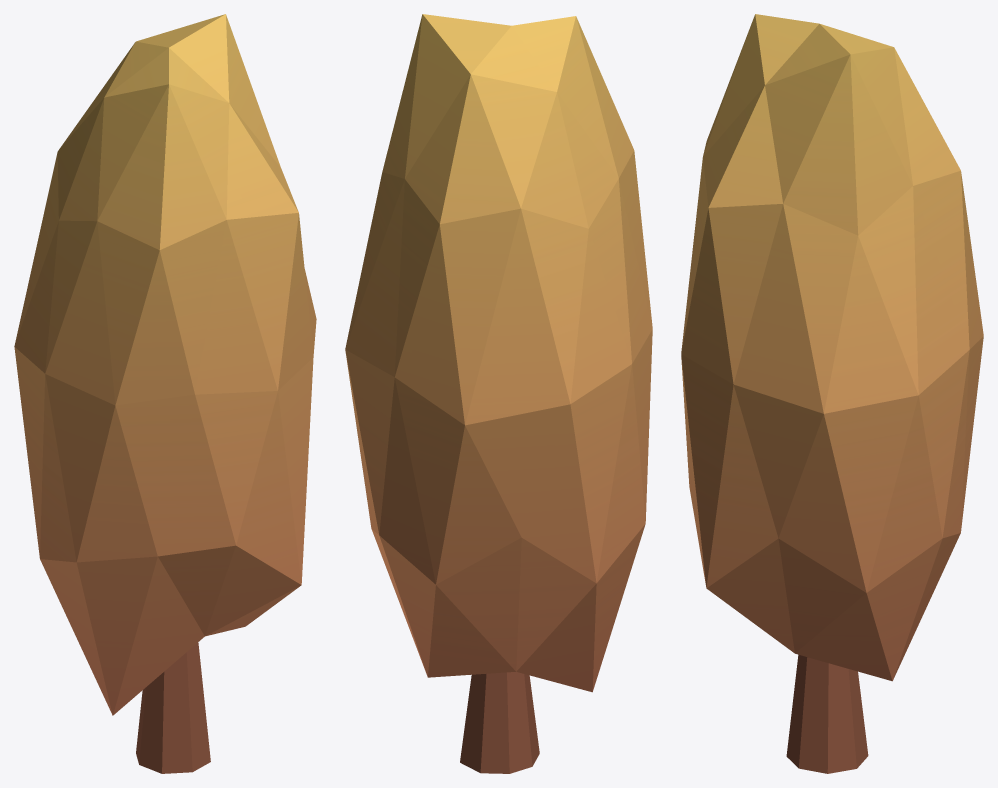
File: Tree_05_gradient_yellow.fbx
3 renders of one model, left to right at view 1: azimuth 30°, elevation 25°; view 2: azimuth 150°, elevation 25°; view 3: azimuth 270°, elevation 25°, orthographic. The views are drawn at different scales.
Parts seen in each view (by area): view 1: Tree_05_gradient_yellow; view 2: Tree_05_gradient_yellow; view 3: Tree_05_gradient_yellow.
Part boxes in pixels (<box>): Tree_05_gradient_yellow: <box>14,14,316,773</box>; Tree_05_gradient_yellow: <box>345,14,652,773</box>; Tree_05_gradient_yellow: <box>681,14,983,773</box>.
Bounding box in the file's own units: 104 × 266 × 99.25.
